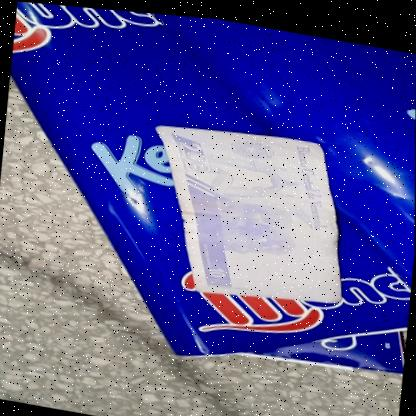ten-back-vef: (139, 111, 358, 313)
